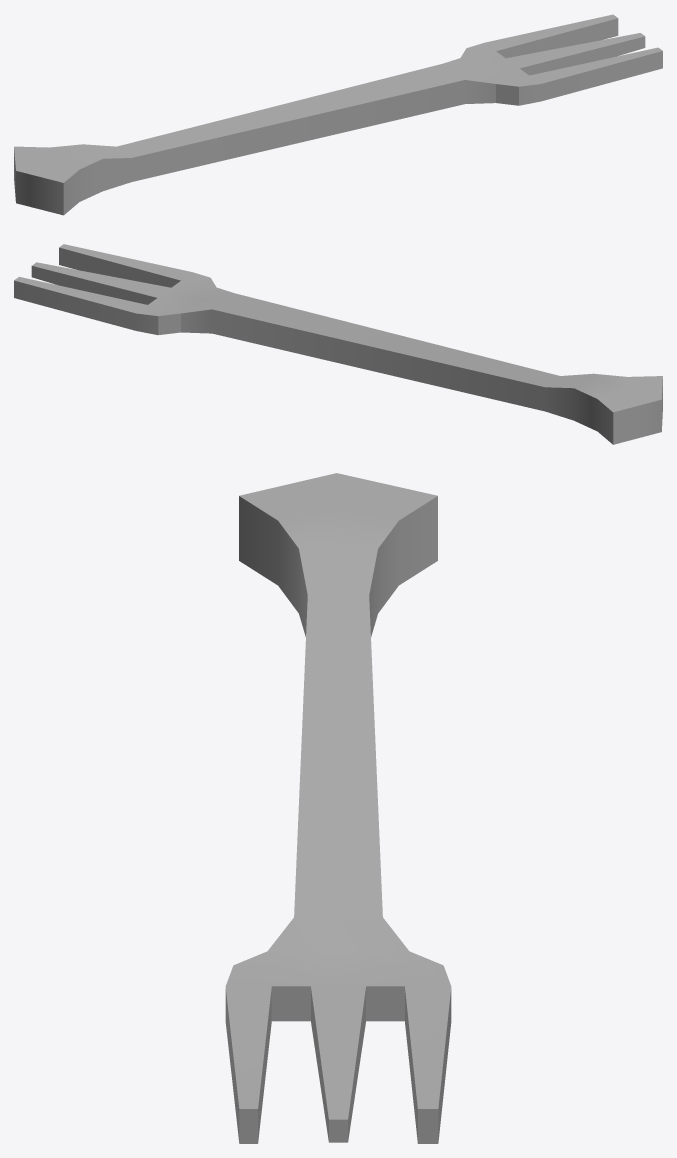
Rendered from DiningFork.fbx.
The picture shows the model from 3 angles, top to bottom: view 1: azimuth 30°, elevation 25°; view 2: azimuth 150°, elevation 25°; view 3: azimuth 270°, elevation 25°; orthographic projection. The views are drawn at different scales.
Parts seen in each view (by area): view 1: Fork:Fork1; view 2: Fork:Fork1; view 3: Fork:Fork1.
Part boxes in pixels (box(x1,y1,x2,y2)): Fork:Fork1: box(14, 14, 662, 215); Fork:Fork1: box(14, 244, 662, 444); Fork:Fork1: box(225, 473, 451, 1143).
Size of the model in its own units: 41.14 by 2.04 by 6.41.
